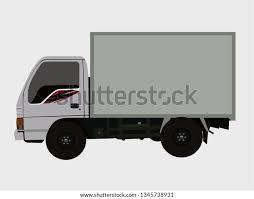truck: (12, 51, 107, 161)
